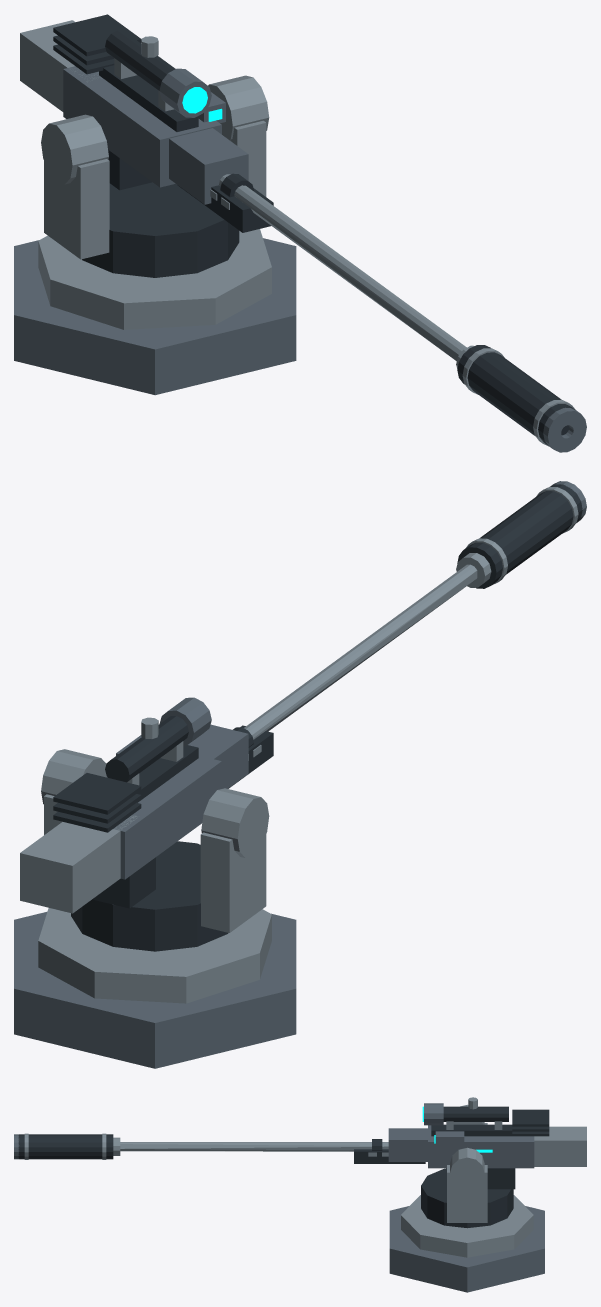
The model's file is needle_t3_d0.meshopt.glb.
3 views of the same model, one above another, from view 1: azimuth 30°, elevation 25°; view 2: azimuth 150°, elevation 25°; view 3: azimuth 270°, elevation 25° (orthographic). The views are drawn at different scales.
Visible parts, largest first — view 1: RECOIL_ARMOR_GEOMETRY, BASE_ARMOR_GEOMETRY, YAW_ARMOR_GEOMETRY, RECOIL_SIGNAL_GEOMETRY; view 2: RECOIL_ARMOR_GEOMETRY, BASE_ARMOR_GEOMETRY, YAW_ARMOR_GEOMETRY; view 3: RECOIL_ARMOR_GEOMETRY, BASE_ARMOR_GEOMETRY, YAW_ARMOR_GEOMETRY.
Part boxes in pixels (bbox=[...]): RECOIL_ARMOR_GEOMETRY: bbox=[20, 14, 586, 452]; BASE_ARMOR_GEOMETRY: bbox=[14, 229, 296, 395]; YAW_ARMOR_GEOMETRY: bbox=[44, 120, 266, 277]; RECOIL_SIGNAL_GEOMETRY: bbox=[182, 87, 222, 121]; RECOIL_ARMOR_GEOMETRY: bbox=[20, 481, 586, 913]; BASE_ARMOR_GEOMETRY: bbox=[14, 908, 296, 1068]; YAW_ARMOR_GEOMETRY: bbox=[44, 794, 266, 951]; RECOIL_ARMOR_GEOMETRY: bbox=[14, 1097, 586, 1189]; BASE_ARMOR_GEOMETRY: bbox=[389, 1195, 544, 1292]; YAW_ARMOR_GEOMETRY: bbox=[421, 1123, 513, 1228].
Size of the model in its own units: 1.55 by 1.48 by 4.96.
